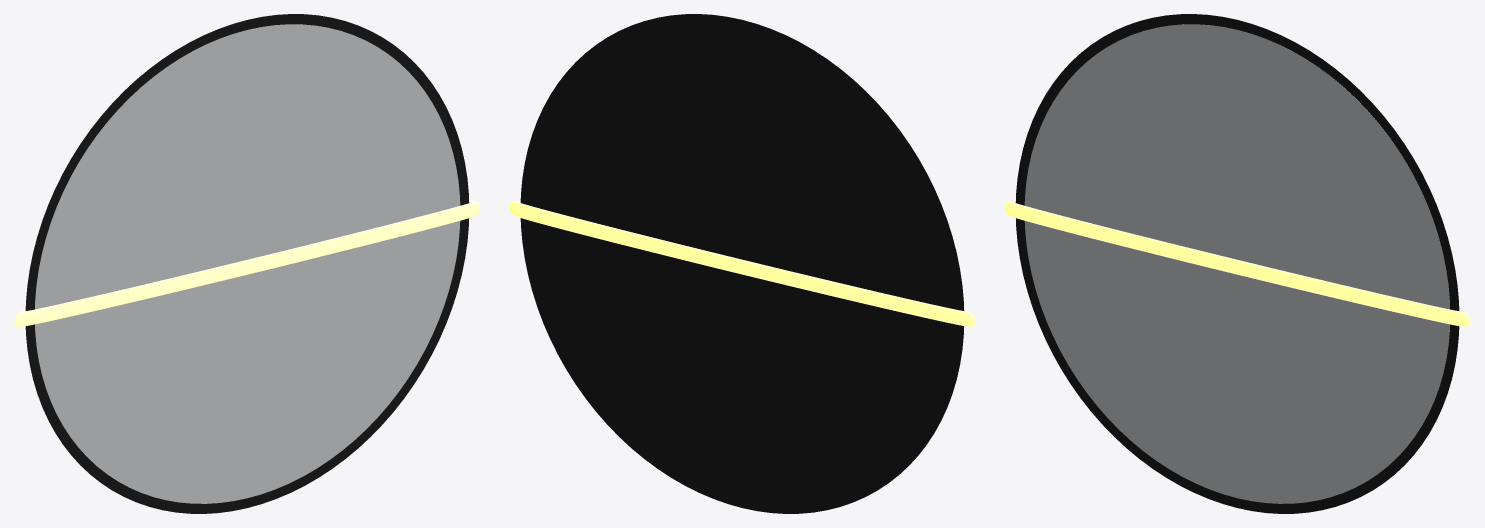
Rendered from BTH-0064.glb.
The picture shows the model from 3 angles, left to right: view 1: azimuth 30°, elevation 25°; view 2: azimuth 150°, elevation 25°; view 3: azimuth 330°, elevation 25°; orthographic projection.
Visible parts, largest first — view 1: round-mirror; view 2: round-mirror; view 3: round-mirror.
Boxes of the visible parts, x1,y1,x2,y2 form: round-mirror: (14, 14, 480, 513); round-mirror: (509, 14, 975, 513); round-mirror: (1004, 14, 1470, 513).
Size of what is drawn, in the model's own units: 1.2 by 1.2 by 0.03.
